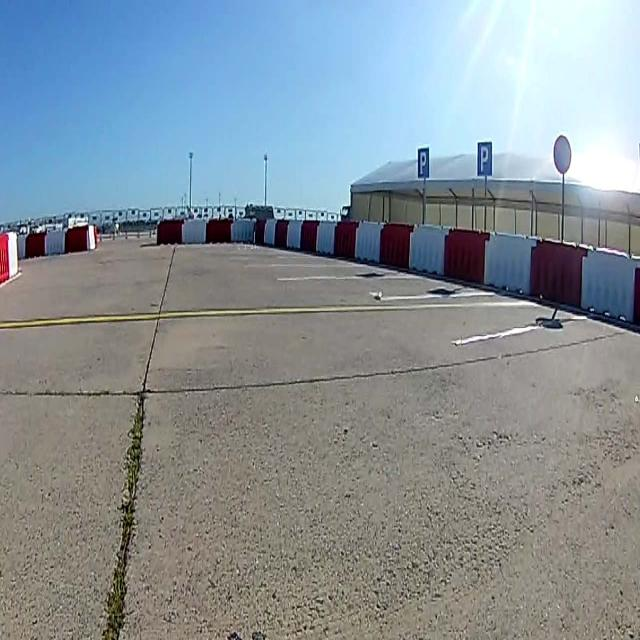park: (477, 140, 491, 174), (418, 146, 430, 176)
